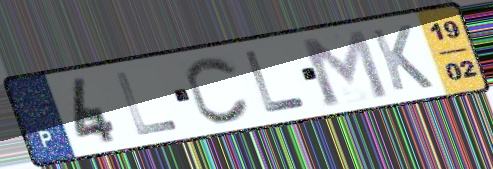4: (72, 75, 119, 146)
C: (183, 54, 253, 125)
K: (367, 22, 437, 94)
L: (112, 70, 182, 138), (242, 48, 311, 116)
M: (295, 26, 393, 108)
